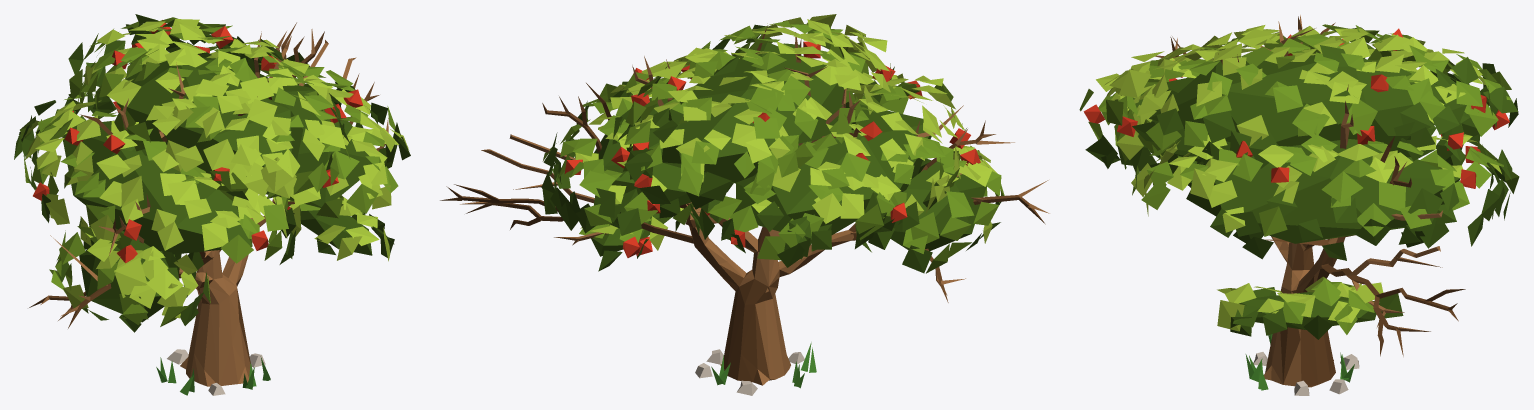
Rendered from apple_bloom.glb.
The picture shows the model from 3 angles, left to right: view 1: azimuth 30°, elevation 25°; view 2: azimuth 150°, elevation 25°; view 3: azimuth 270°, elevation 25°; orthographic projection. The views are drawn at different scales.
Visible parts, largest first — view 1: apple_bloom; view 2: apple_bloom; view 3: apple_bloom.
Boxes of the visible parts, x1,y1,x2,y2 form: apple_bloom: (14,14,410,395); apple_bloom: (440,14,1049,395); apple_bloom: (1079,15,1519,395).
Size of the model in its own units: 8.88 by 5.82 by 6.96.
